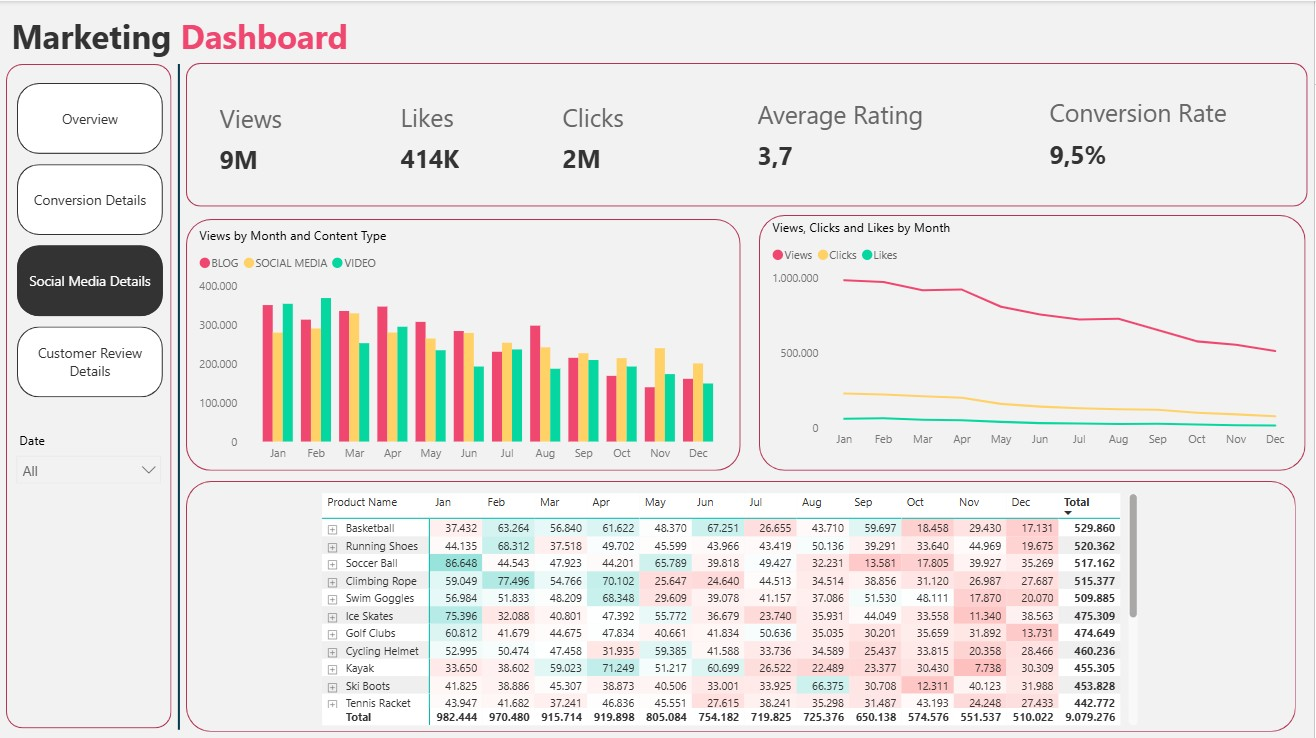

What the dashboard file says about the page in this screenshot:
{"tool":"powerbi","page":{"name":"Social Media Details","canvas":[1280,720],"ordinal":2},"visuals":[{"type":"shape","box":[182,467.2,1080.5,244.3],"z":0},{"type":"shape","box":[740.2,208.1,532,249],"z":1000},{"type":"shape","box":[7.2,61.8,161.2,646.6],"z":3000},{"type":"shape","box":[181.9,212,539.8,245.1],"z":4000},{"type":"shape","box":[181.8,60,1091.6,139.7],"z":5000},{"type":"cardVisual","fields":{"Data":["_Calculations.Conversion Rate"]},"box":[1005.7,66.1,215.9,124.5],"z":6000},{"type":"cardVisual","fields":{"Data":["_Calculations.Rating (Average)"]},"box":[721.7,73.9,235.4,112.8],"z":7000},{"type":"cardVisual","fields":{"Data":["_Calculations.Views"]},"box":[197.4,75.9,157.6,116.7],"z":8000},{"type":"cardVisual","fields":{"Data":["_Calculations.Clicks"]},"box":[531.1,75.9,176,114.8],"z":9000},{"type":"cardVisual","fields":{"Data":["_Calculations.Likes"]},"box":[373.5,75.9,157.6,114.8],"z":10000},{"type":"shape","box":[168.4,61.8,13.4,648.4],"z":11000},{"type":"pageNavigator","box":[17.5,79.8,143,306.4],"z":12000},{"type":"slicer","fields":{"Values":["Calendar.YearMonthShort"]},"box":[6.8,414.3,161.5,59.3],"z":13000},{"type":"textbox","box":[6.8,6.8,366.7,53.5],"z":14000},{"type":"lineChart","fields":{"Category":["Calendar.MonthNameShort"],"Y":["_Calculations.Views","_Calculations.Clicks","_Calculations.Likes"]},"box":[747.6,212.2,514.9,231.7],"z":18001},{"type":"clusteredColumnChart","fields":{"Category":["Calendar.MonthNameShort"],"Series":["fact_engagement.ContentType"],"Y":["_Calculations.Views"]},"box":[189.8,220,525.6,237.5],"z":18002},{"type":"pivotTable","fields":{"Columns":["Calendar.MonthNameShort"],"Rows":["dim_products.ProductName","fact_engagement.ContentType"],"Values":["_Calculations.Views"]},"box":[309.5,474,804,235.6],"z":18003}]}

Visuals, with their boxes in screenshot pixels (x1, y1, x2, y2), scaled from the page's 1280x720 canvas onto the 1316x738 screenshot:
shape: {"x1": 187, "y1": 479, "x2": 1298, "y2": 729}
shape: {"x1": 761, "y1": 213, "x2": 1308, "y2": 469}
shape: {"x1": 7, "y1": 63, "x2": 173, "y2": 726}
shape: {"x1": 187, "y1": 217, "x2": 742, "y2": 469}
shape: {"x1": 187, "y1": 61, "x2": 1309, "y2": 205}
cardVisual - _Calculations.Conversion Rate: {"x1": 1034, "y1": 68, "x2": 1256, "y2": 195}
cardVisual - _Calculations.Rating (Average): {"x1": 742, "y1": 76, "x2": 984, "y2": 191}
cardVisual - _Calculations.Views: {"x1": 203, "y1": 78, "x2": 365, "y2": 197}
cardVisual - _Calculations.Clicks: {"x1": 546, "y1": 78, "x2": 727, "y2": 195}
cardVisual - _Calculations.Likes: {"x1": 384, "y1": 78, "x2": 546, "y2": 195}
shape: {"x1": 173, "y1": 63, "x2": 187, "y2": 728}
pageNavigator: {"x1": 18, "y1": 82, "x2": 165, "y2": 396}
slicer - Calendar.YearMonthShort: {"x1": 7, "y1": 425, "x2": 173, "y2": 485}
textbox: {"x1": 7, "y1": 7, "x2": 384, "y2": 62}
lineChart - Calendar.MonthNameShort x _Calculations.Views: {"x1": 769, "y1": 218, "x2": 1298, "y2": 455}
clusteredColumnChart - Calendar.MonthNameShort x fact_engagement.ContentType: {"x1": 195, "y1": 225, "x2": 736, "y2": 469}
pivotTable - Calendar.MonthNameShort x dim_products.ProductName: {"x1": 318, "y1": 486, "x2": 1145, "y2": 727}
